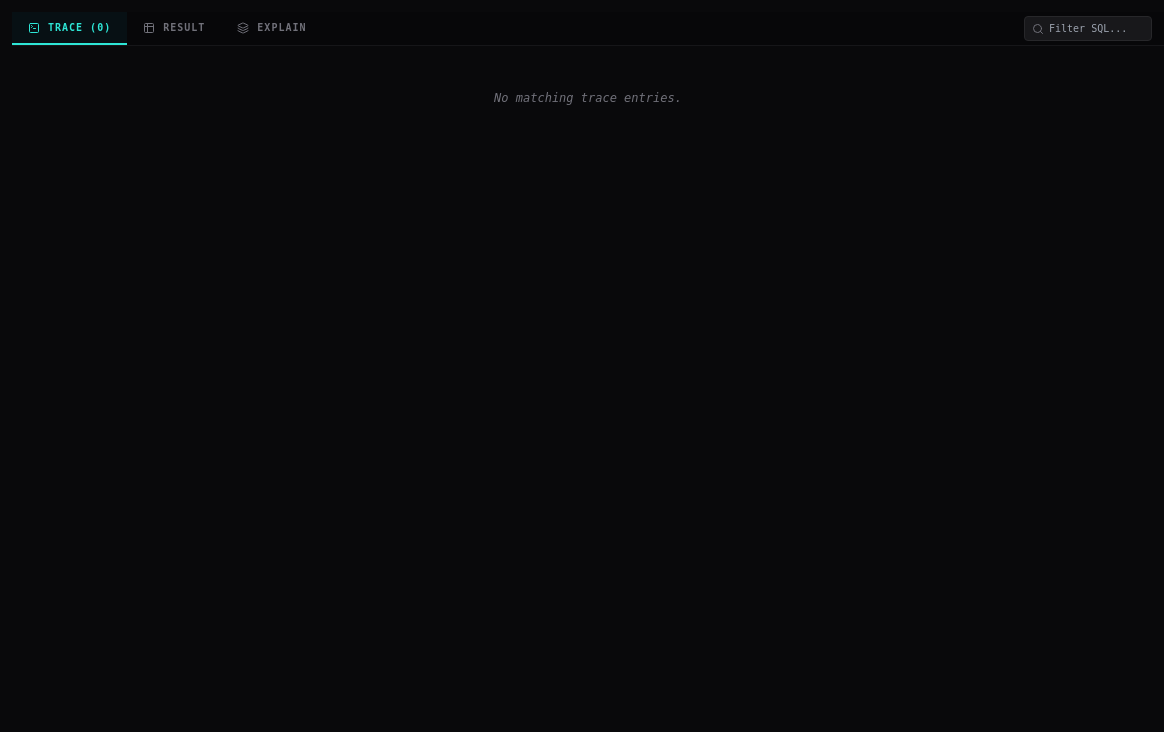
QueryInspector › renders explain tab plan rows
What coordinates should you click on to do the following:
click the button "Explain"
I would click on:
 (272, 28)
Its box is [221,12,322,45].
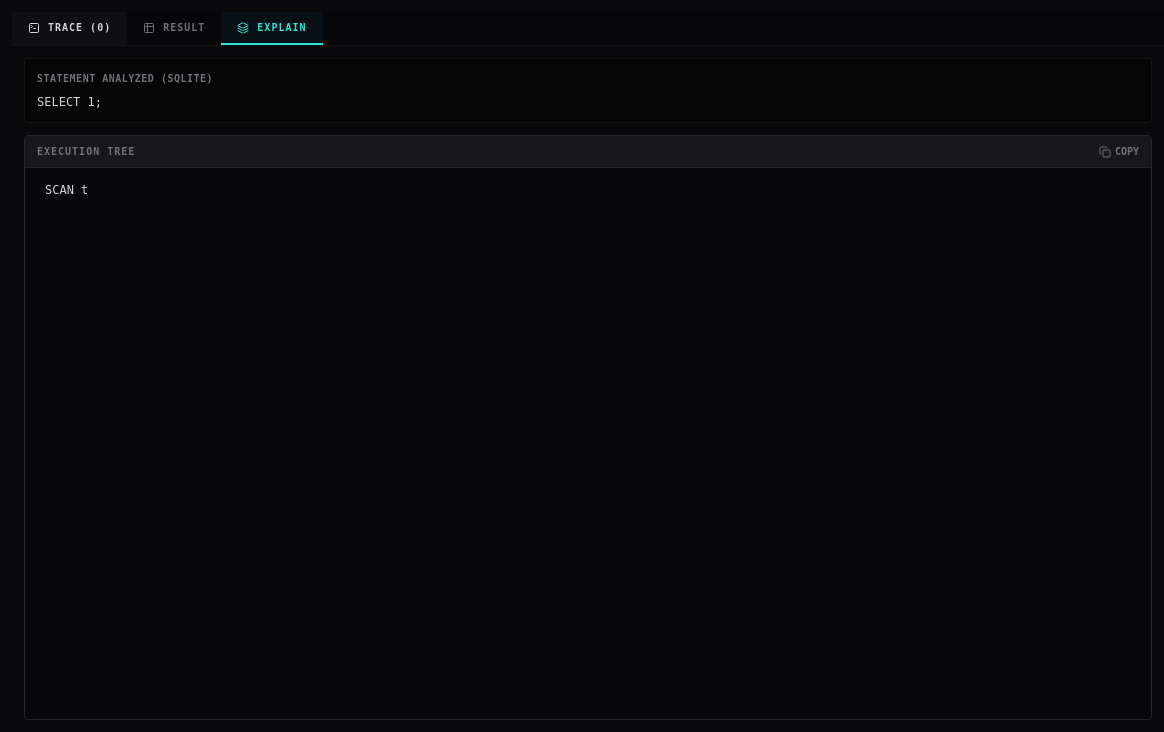
Expected: the text "Statement Analyzed (sqlite)" is shown, [37,71,213,86]
Expected: the text "SELECT 1;" is shown, [37,95,102,109]
Expected: the text "SCAN t" is shown, [45,183,88,197]
